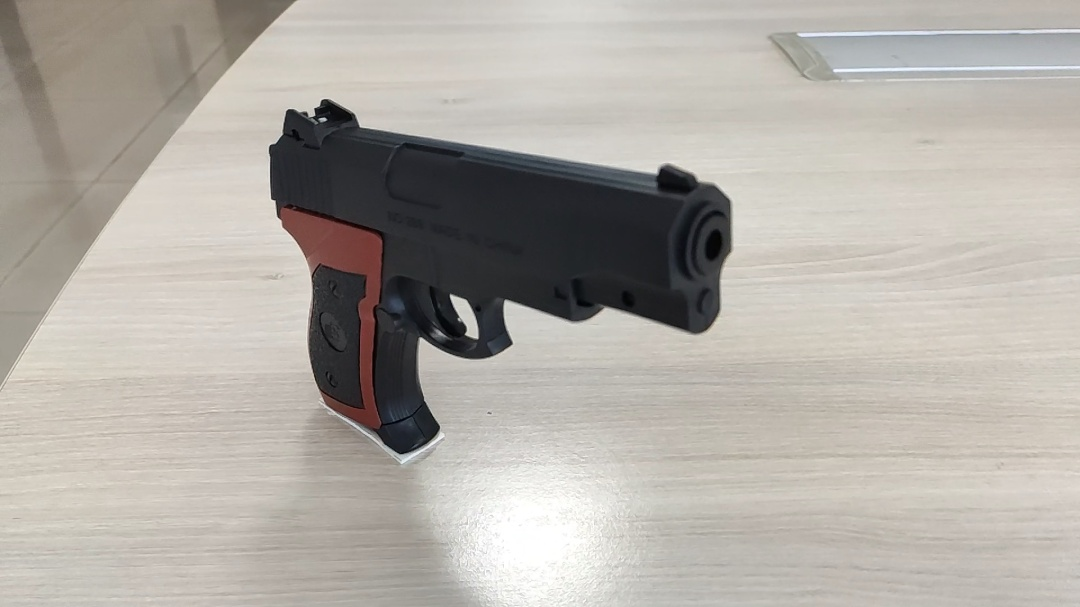gun: (267, 97, 737, 457)
